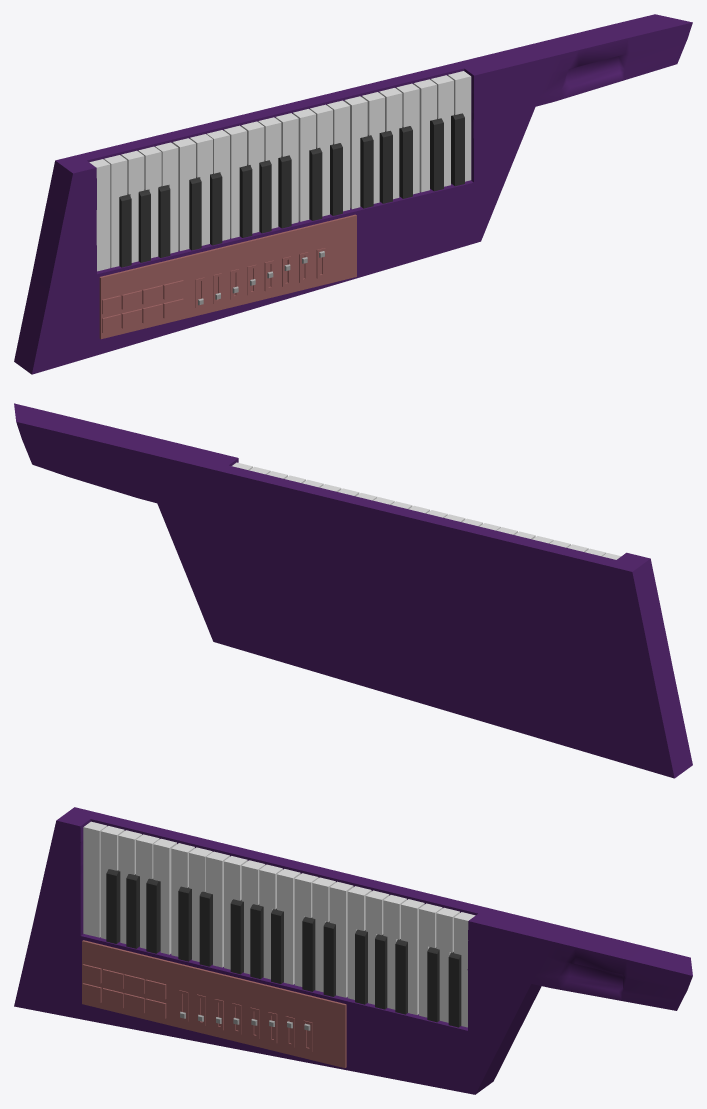
File: Keytar (1).fbx
The picture shows the model from 3 angles, top to bottom: view 1: azimuth 30°, elevation 25°; view 2: azimuth 150°, elevation 25°; view 3: azimuth 330°, elevation 25°; orthographic projection. The views are drawn at different scales.
Parts seen in each view (by area): view 1: pCube51; view 2: pCube51; view 3: pCube51.
Boxes of the visible parts, <box> form: pCube51: <box>14,14,692,374</box>; pCube51: <box>14,403,692,778</box>; pCube51: <box>14,807,692,1094</box>.
Bounding box in the file's own units: 13.74 × 3.8 × 0.7522.
